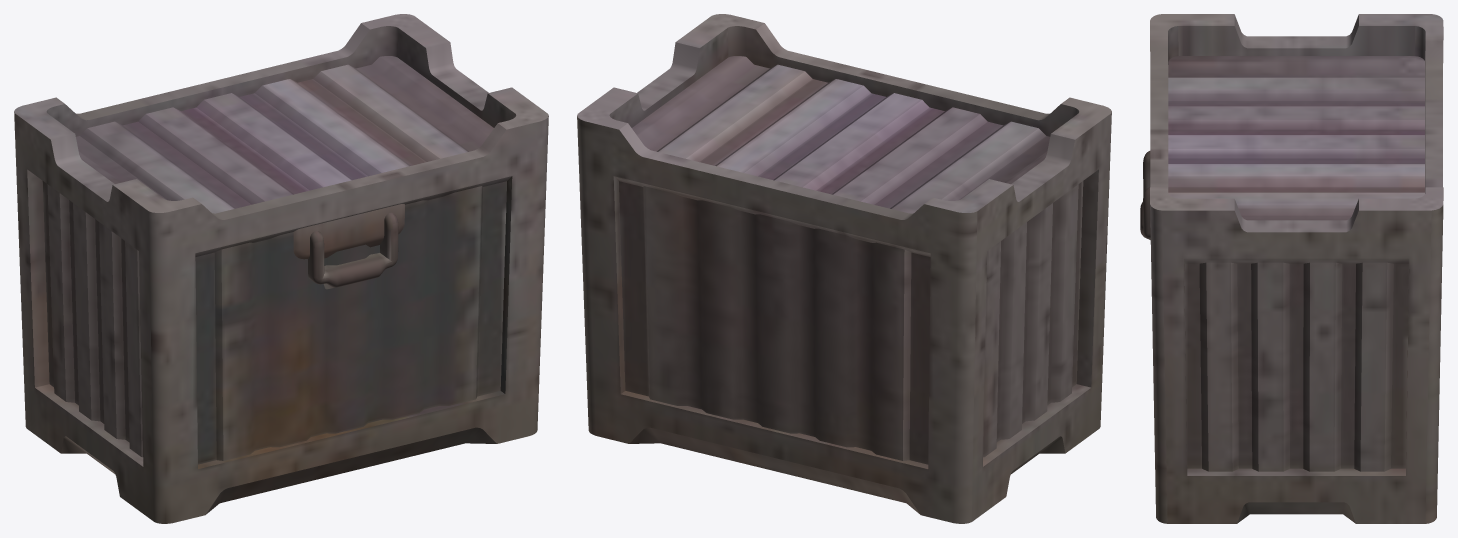
Rendered from steel-chest.glb.
The picture shows the model from 3 angles, left to right: view 1: azimuth 30°, elevation 25°; view 2: azimuth 150°, elevation 25°; view 3: azimuth 270°, elevation 25°; orthographic projection.
Visible parts, largest first — view 1: body; view 2: body; view 3: body.
Part boxes in pixels (x1=…): body: x1=14, y1=14, x2=548, y2=523; body: x1=577, y1=14, x2=1111, y2=523; body: x1=1140, y1=14, x2=1443, y2=523.
Bounding box in the file's own units: 1 × 0.7555 × 0.6533.
Materials: 1 (1 with a texture image).
